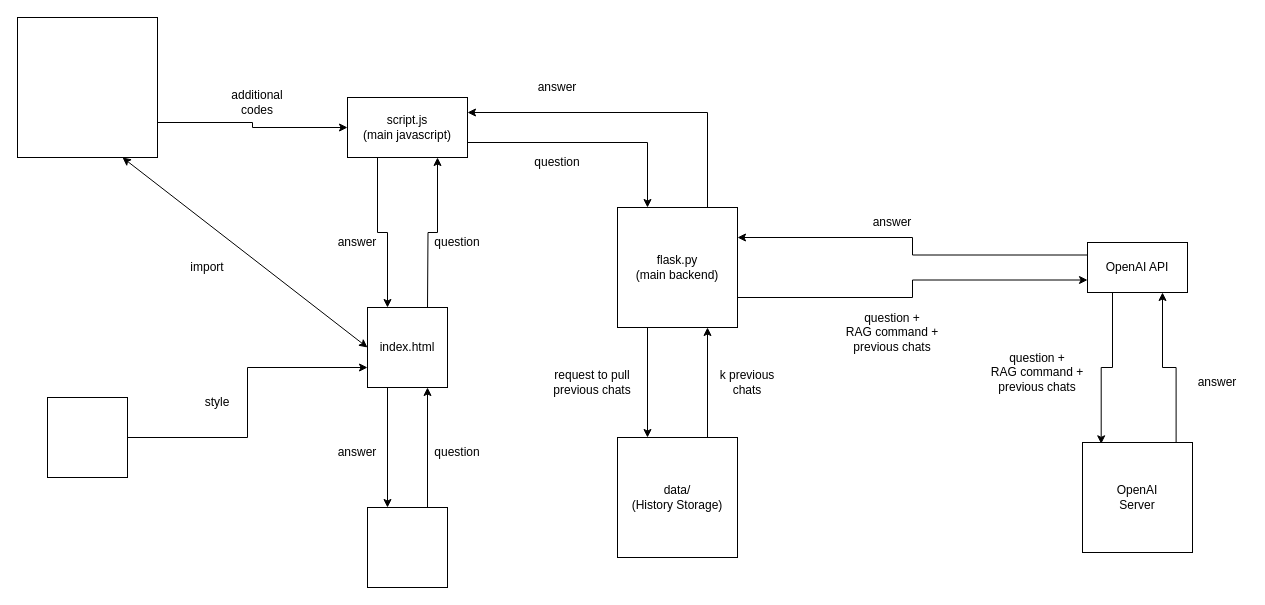
The diagram is 1265 pixels wide and 605 high, and some of its shapes have lost their labels. The shapes that lost their labels are listed below. From the top down, each one's centre as x and y in pixels, then its label:
the point at 87,87: marked.js (external library)
the point at 87,437: style.css
the point at 407,547: User
